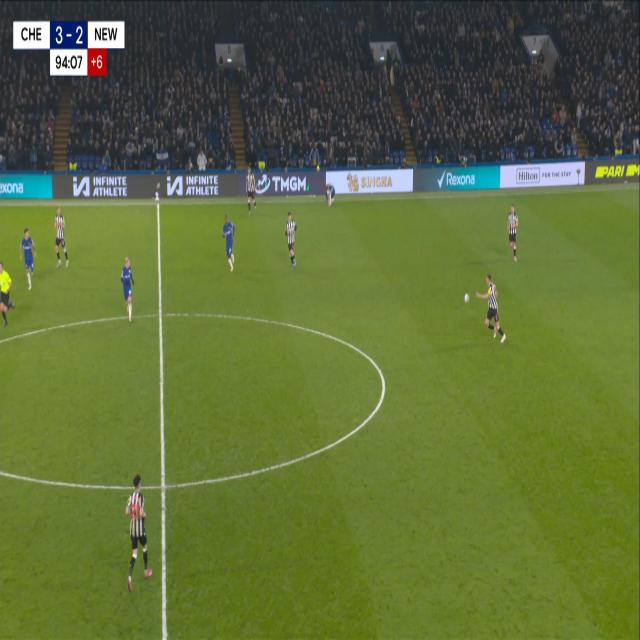Ball: (463, 291, 470, 303)
Chelsea: (117, 251, 138, 326), (17, 223, 38, 293), (219, 209, 238, 275)
New castle: (122, 470, 155, 597), (474, 269, 508, 348), (53, 202, 70, 272), (282, 204, 298, 270), (506, 200, 518, 268), (245, 163, 258, 219)
Refree: (0, 253, 15, 329)
